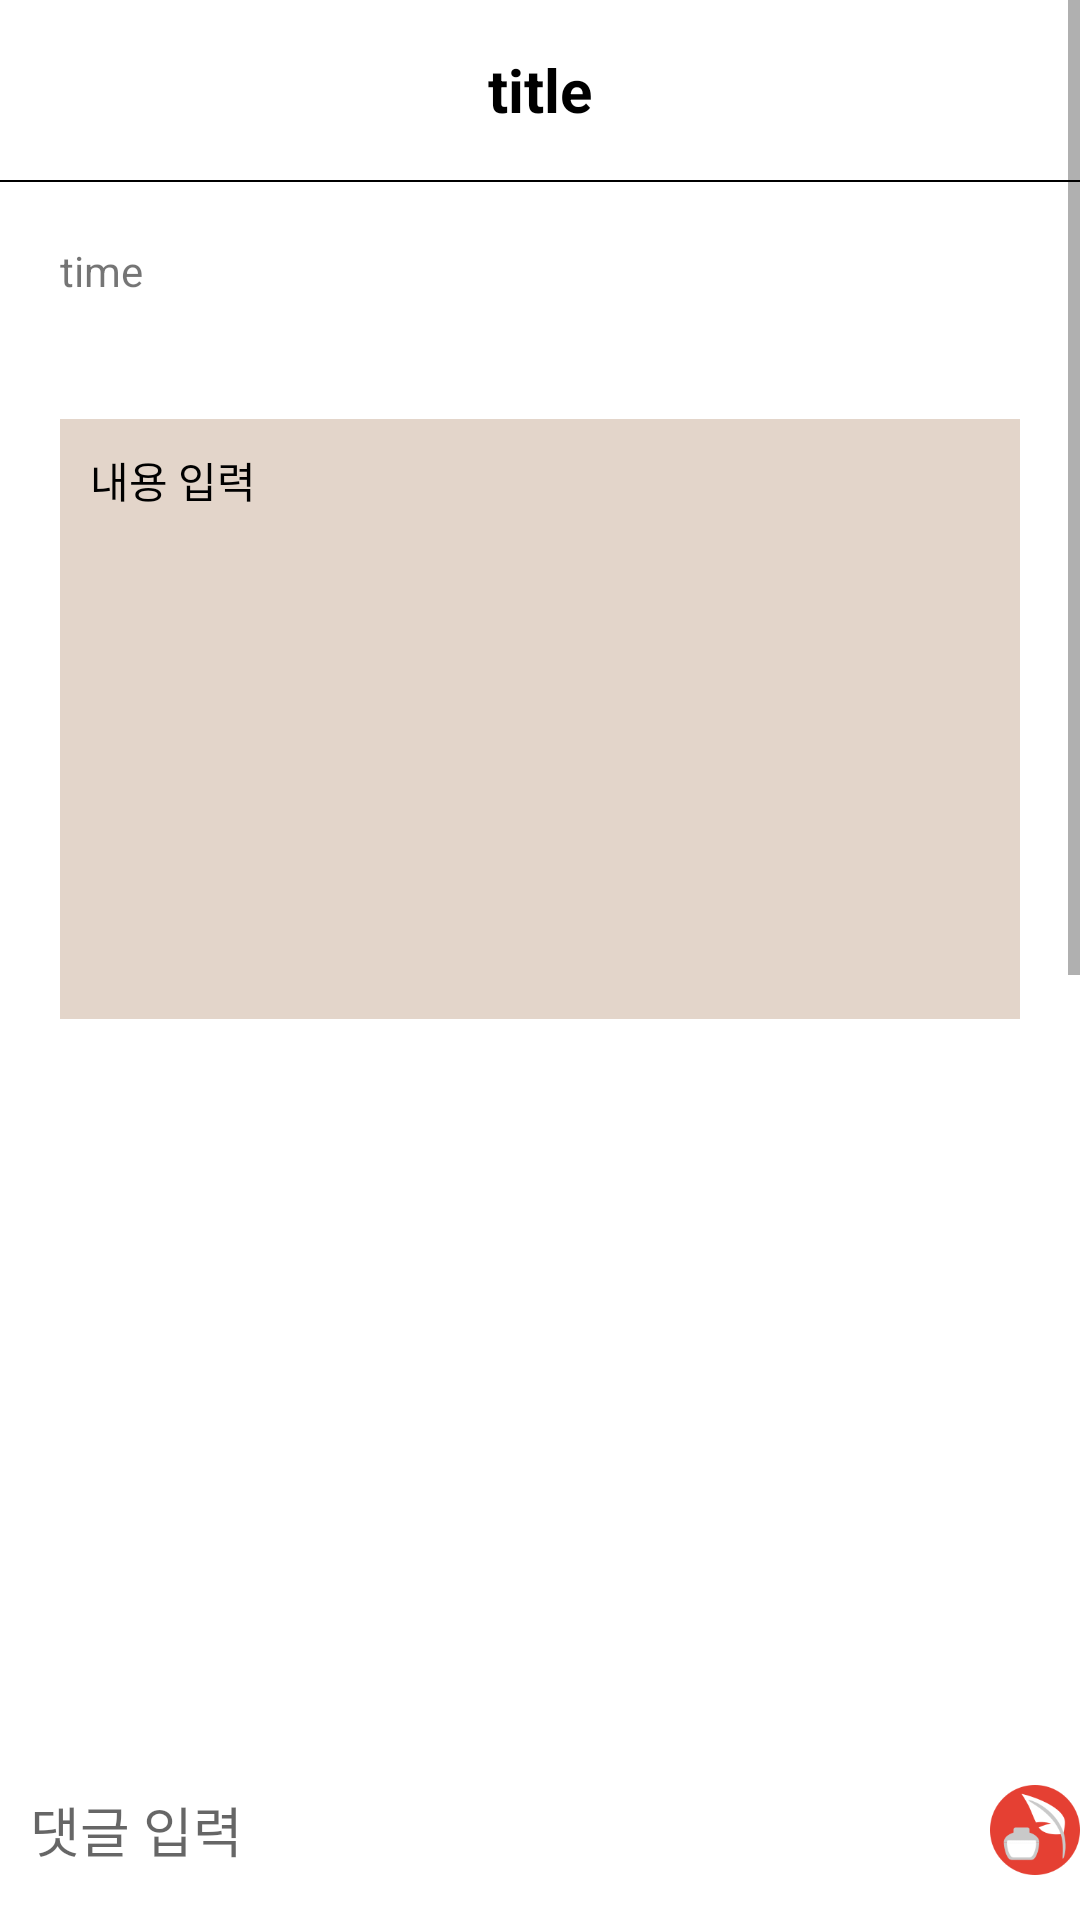

Named icons in this screenshot (1080*1920) and their bounding boxes, (x1, y1, x2, y2):
write: (990, 1785, 1080, 1875)
